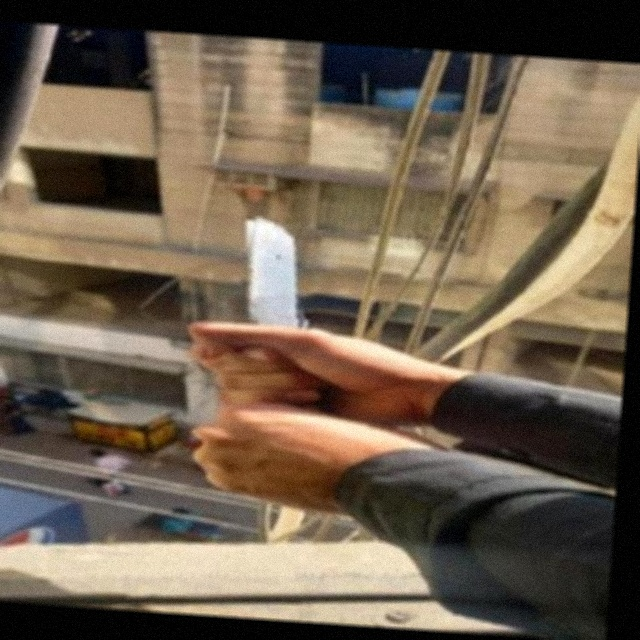Sharp-Object: (236, 219, 320, 330)
